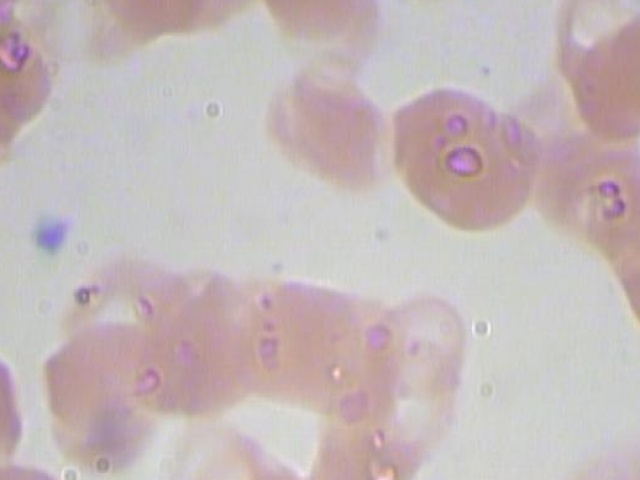Platelets: (12, 202, 78, 265)
RBC: (374, 72, 540, 234), (29, 307, 171, 453), (257, 52, 398, 198), (125, 281, 266, 427), (218, 267, 361, 406), (526, 112, 637, 240), (546, 25, 640, 153), (372, 283, 469, 406), (367, 357, 464, 479), (286, 409, 422, 480), (571, 135, 640, 263), (148, 415, 280, 480), (252, 0, 393, 60), (0, 0, 61, 137), (595, 163, 640, 291), (85, 0, 219, 42), (598, 0, 640, 126), (553, 425, 640, 480), (611, 205, 640, 342), (223, 451, 345, 480), (0, 451, 91, 480), (0, 0, 94, 2)
WBC: (340, 0, 516, 3)
